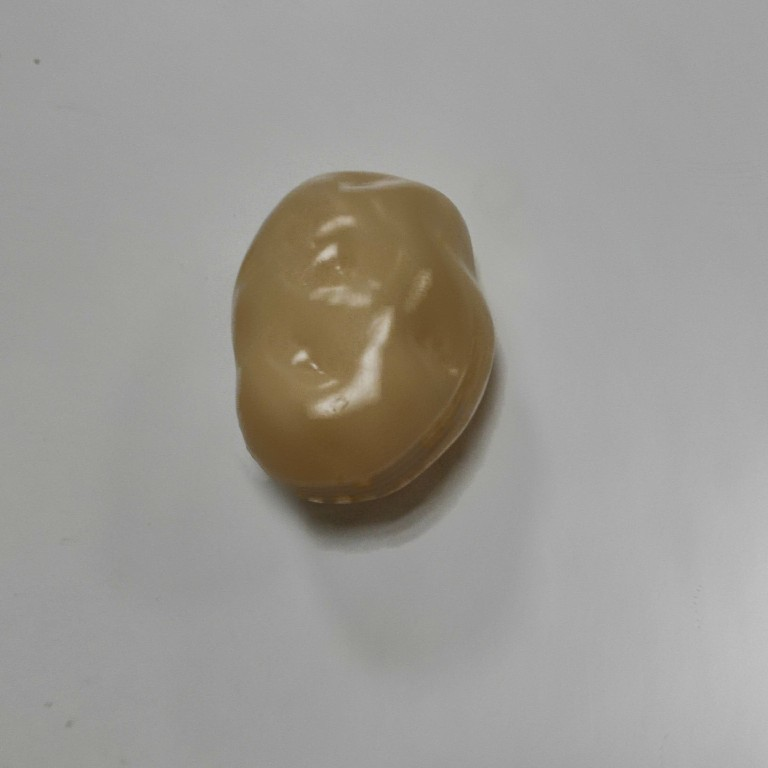fruit_potato: (225, 166, 499, 511)
